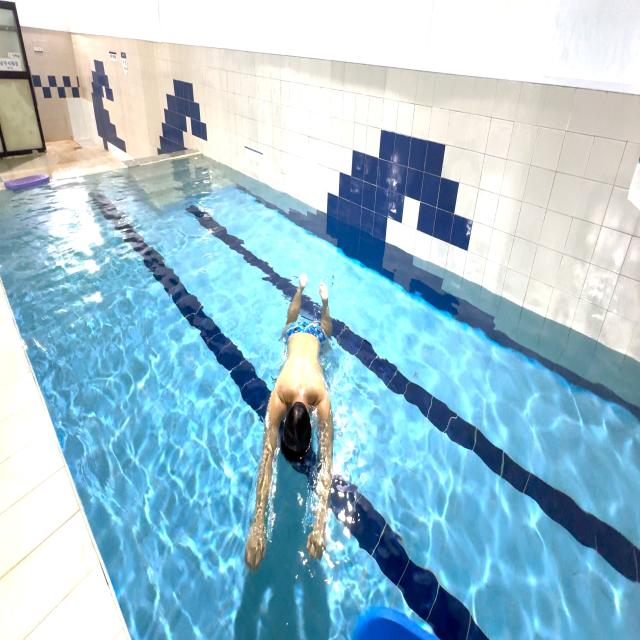Drowning: (243, 268, 337, 583)
